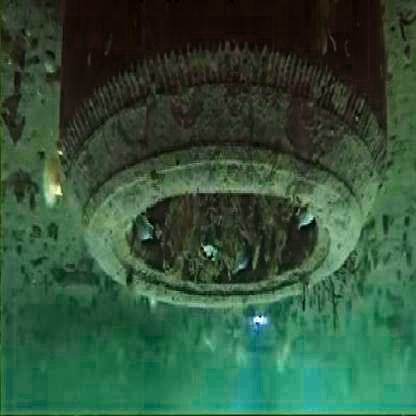tire: (64, 41, 380, 317)
